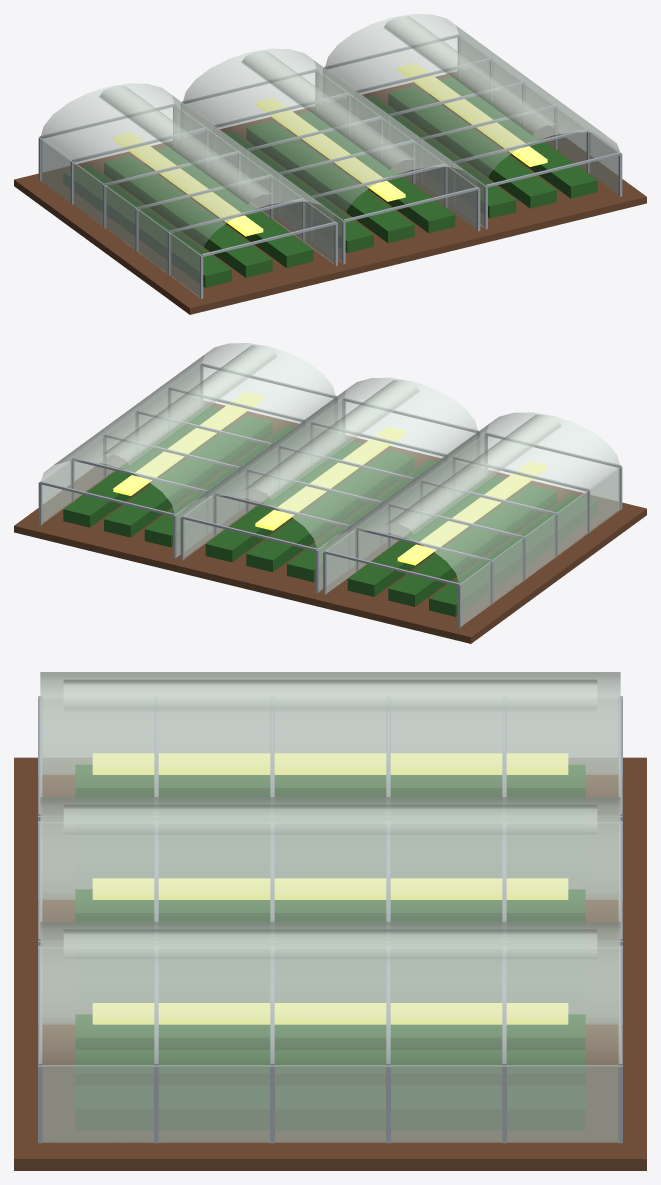
Rendered from prop_09_dalat_agri_greenhouse_cluster.glb.
3 renders of one model, top to bottom at view 1: azimuth 30°, elevation 25°; view 2: azimuth 150°, elevation 25°; view 3: azimuth 270°, elevation 25°, orthographic. The views are drawn at different scales.
Visible parts, largest first — view 1: Translucent_Poly_Tunnels, Interior_Crop_Rows, Terrace_Plinth, Galvanized_Frames, Night_LED_Grow_Lights; view 2: Translucent_Poly_Tunnels, Interior_Crop_Rows, Terrace_Plinth, Galvanized_Frames, Night_LED_Grow_Lights; view 3: Translucent_Poly_Tunnels, Interior_Crop_Rows, Terrace_Plinth, Night_LED_Grow_Lights, Galvanized_Frames.
Part boxes in pixels (left/top/right/bottom): Translucent_Poly_Tunnels: left=40, top=14, right=619, bottom=297; Interior_Crop_Rows: left=63, top=77, right=597, bottom=287; Terrace_Plinth: left=14, top=72, right=646, bottom=314; Galvanized_Frames: left=38, top=34, right=622, bottom=298; Night_LED_Grow_Lights: left=113, top=63, right=547, bottom=236; Translucent_Poly_Tunnels: left=41, top=343, right=620, bottom=626; Interior_Crop_Rows: left=63, top=406, right=597, bottom=616; Terrace_Plinth: left=14, top=401, right=646, bottom=643; Galvanized_Frames: left=38, top=363, right=622, bottom=627; Night_LED_Grow_Lights: left=113, top=392, right=547, bottom=565; Translucent_Poly_Tunnels: left=40, top=672, right=620, bottom=1142; Interior_Crop_Rows: left=75, top=764, right=585, bottom=1130; Terrace_Plinth: left=14, top=757, right=646, bottom=1170; Night_LED_Grow_Lights: left=92, top=753, right=568, bottom=1024; Galvanized_Frames: left=38, top=696, right=622, bottom=1143.
Size of the model in its own units: 36 by 6.7 by 24.
